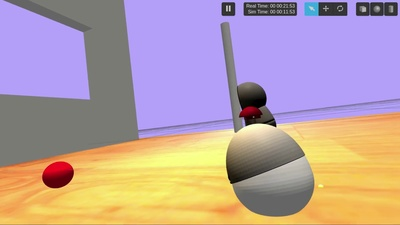mira_robot: (227, 123, 315, 217)
